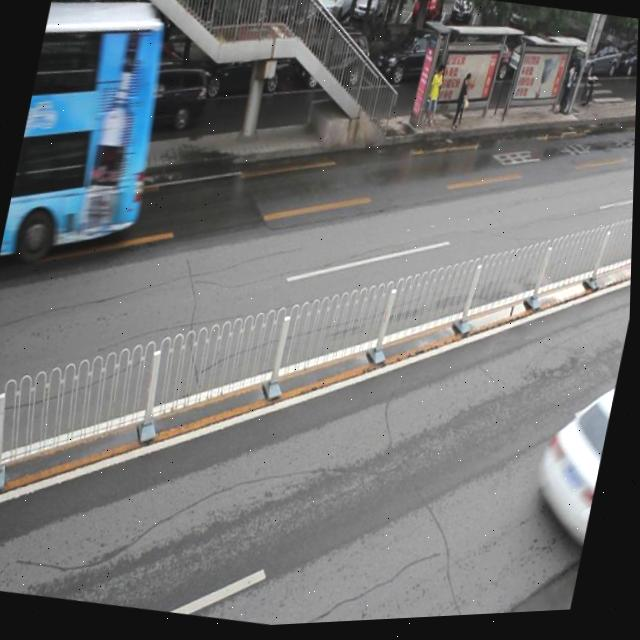car: (525, 373, 620, 556), (81, 31, 186, 122), (185, 31, 293, 109), (128, 50, 218, 141), (367, 24, 459, 102), (289, 24, 372, 102), (30, 48, 79, 115)
van: (2, 0, 182, 277)
